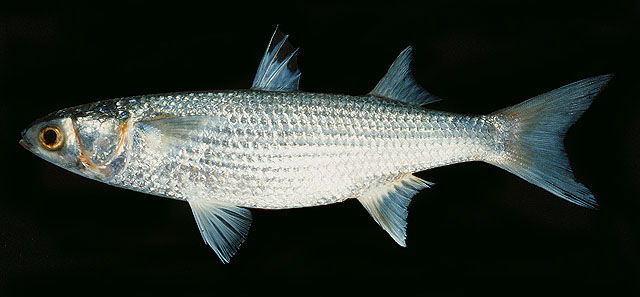fish: (19, 25, 611, 264)
